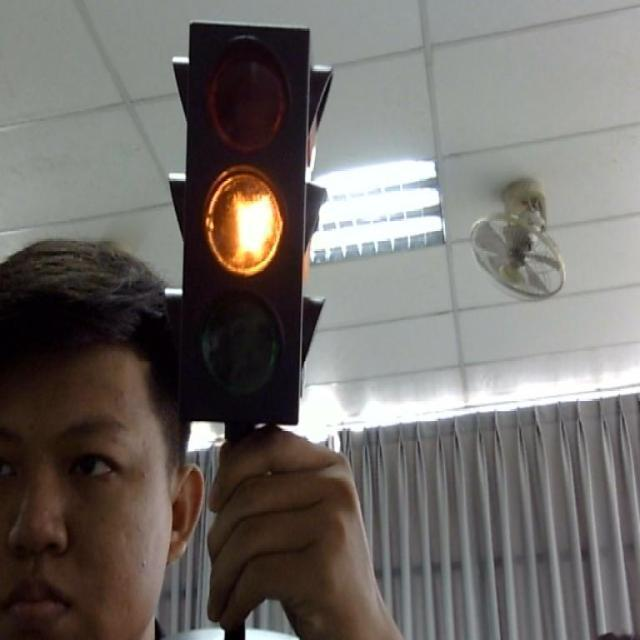yellow_light: (168, 21, 330, 437)
